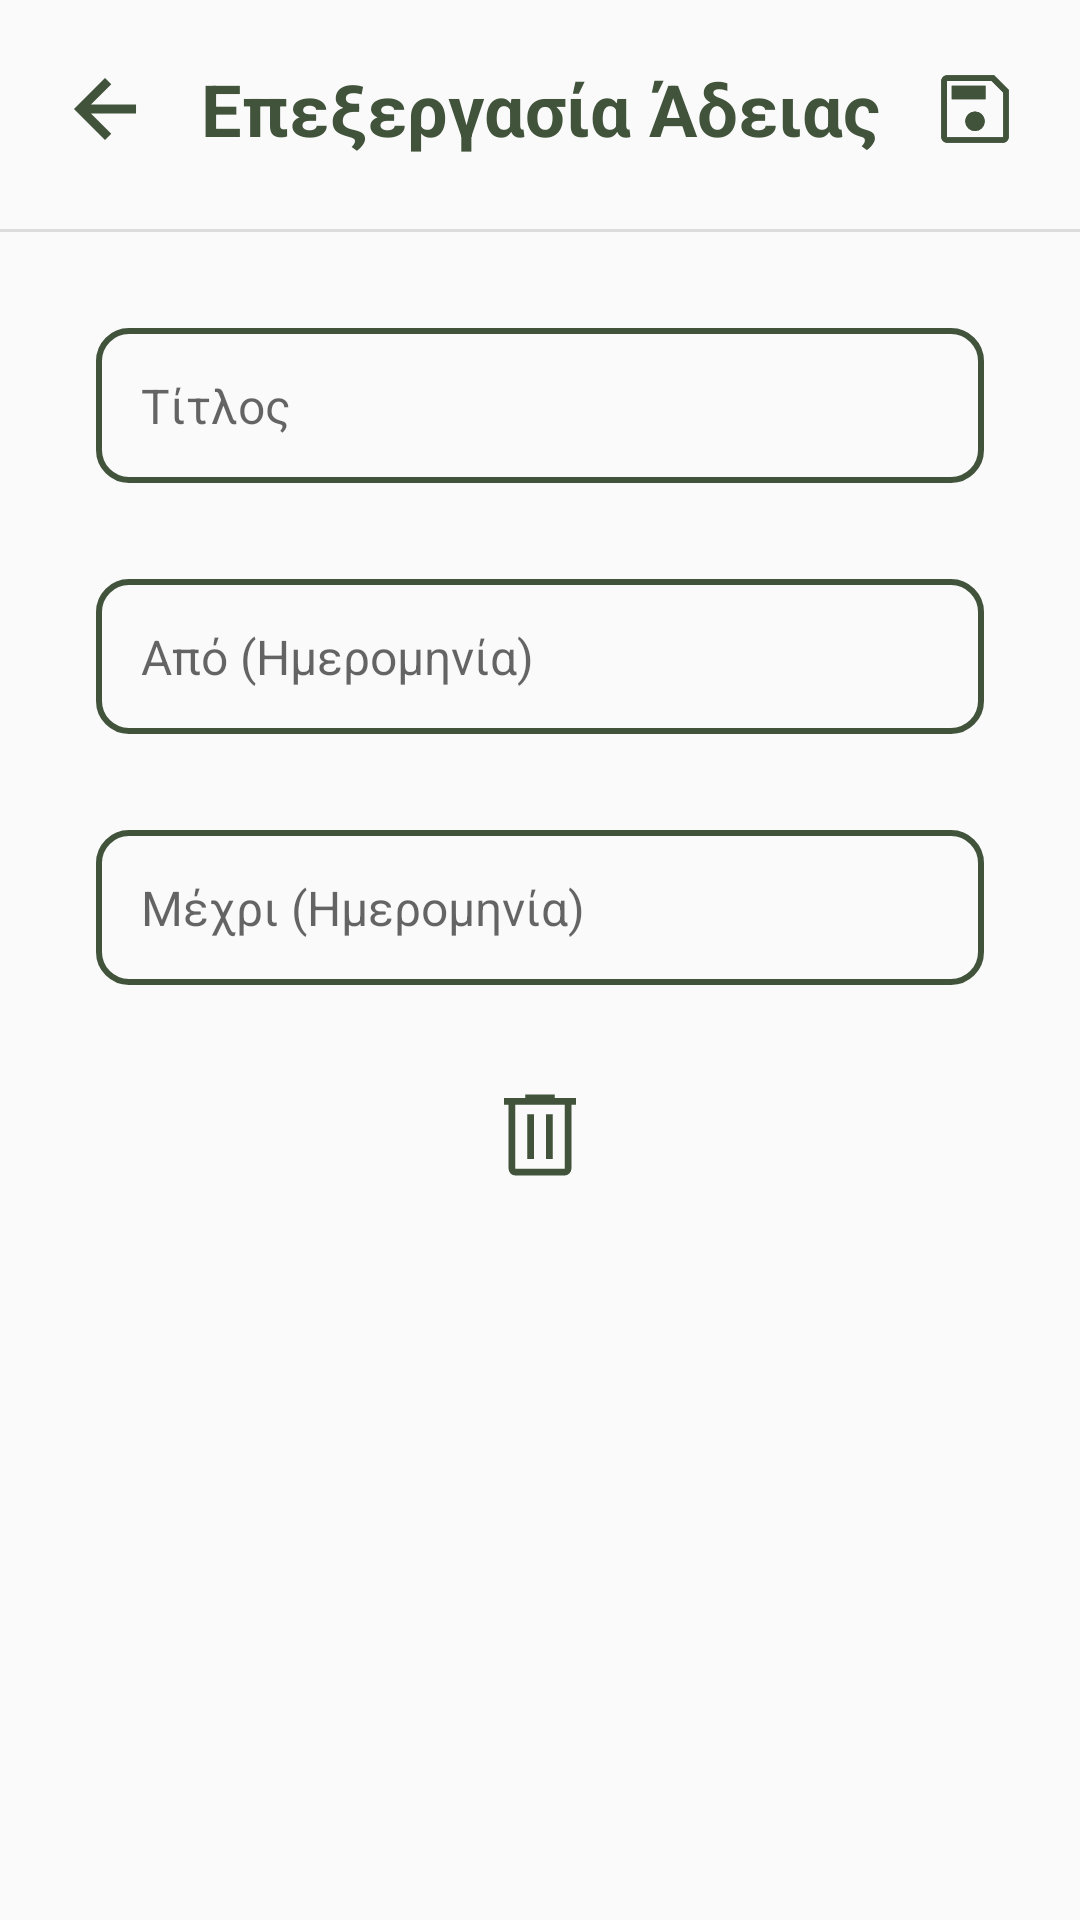

Where to tap for icons on this 1080*1920 app screen, as (x,y):
arrow back: (105,109)
delete: (540,1135)
save: (975,109)
